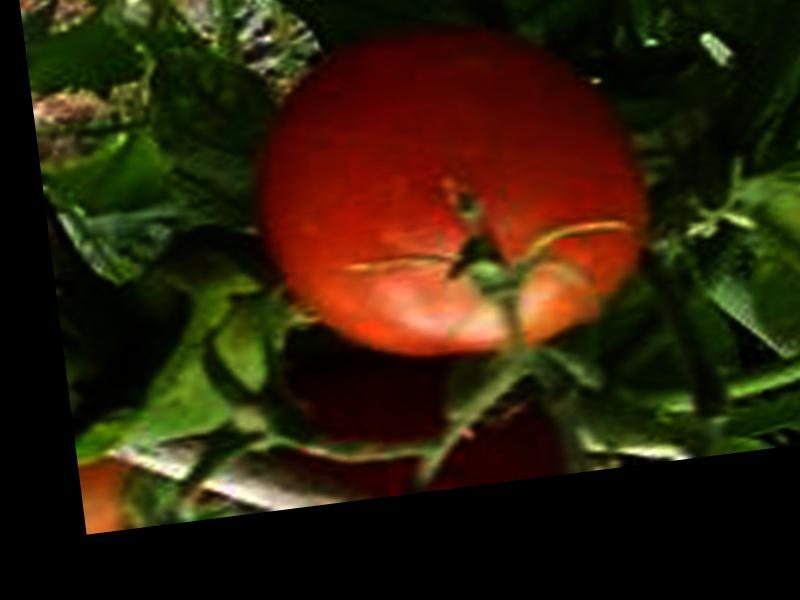Tomato: (244, 13, 660, 380)
